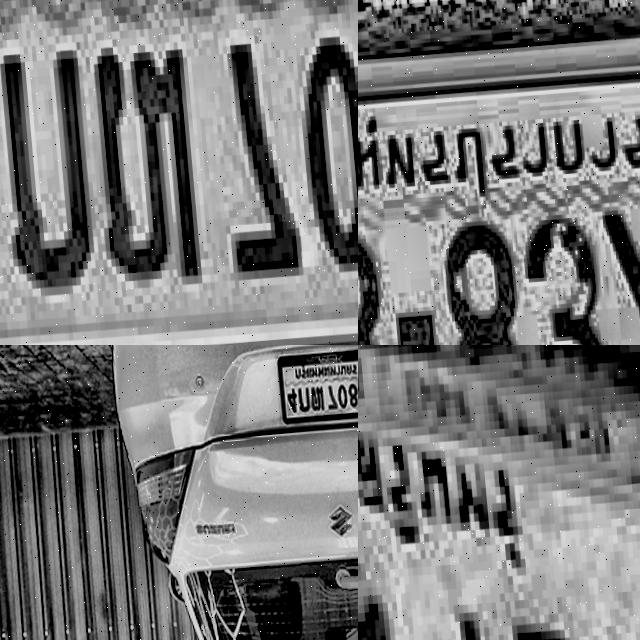license-plate: (0, 0, 358, 345), (358, 37, 640, 345), (358, 345, 640, 640), (273, 345, 358, 424)
